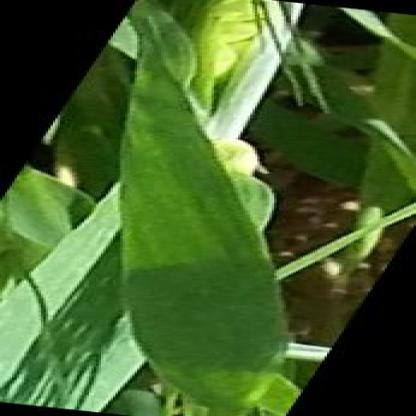Wheat Healthy: (148, 219, 251, 361), (6, 304, 116, 399), (157, 12, 243, 93), (129, 106, 205, 196), (56, 232, 134, 312)
